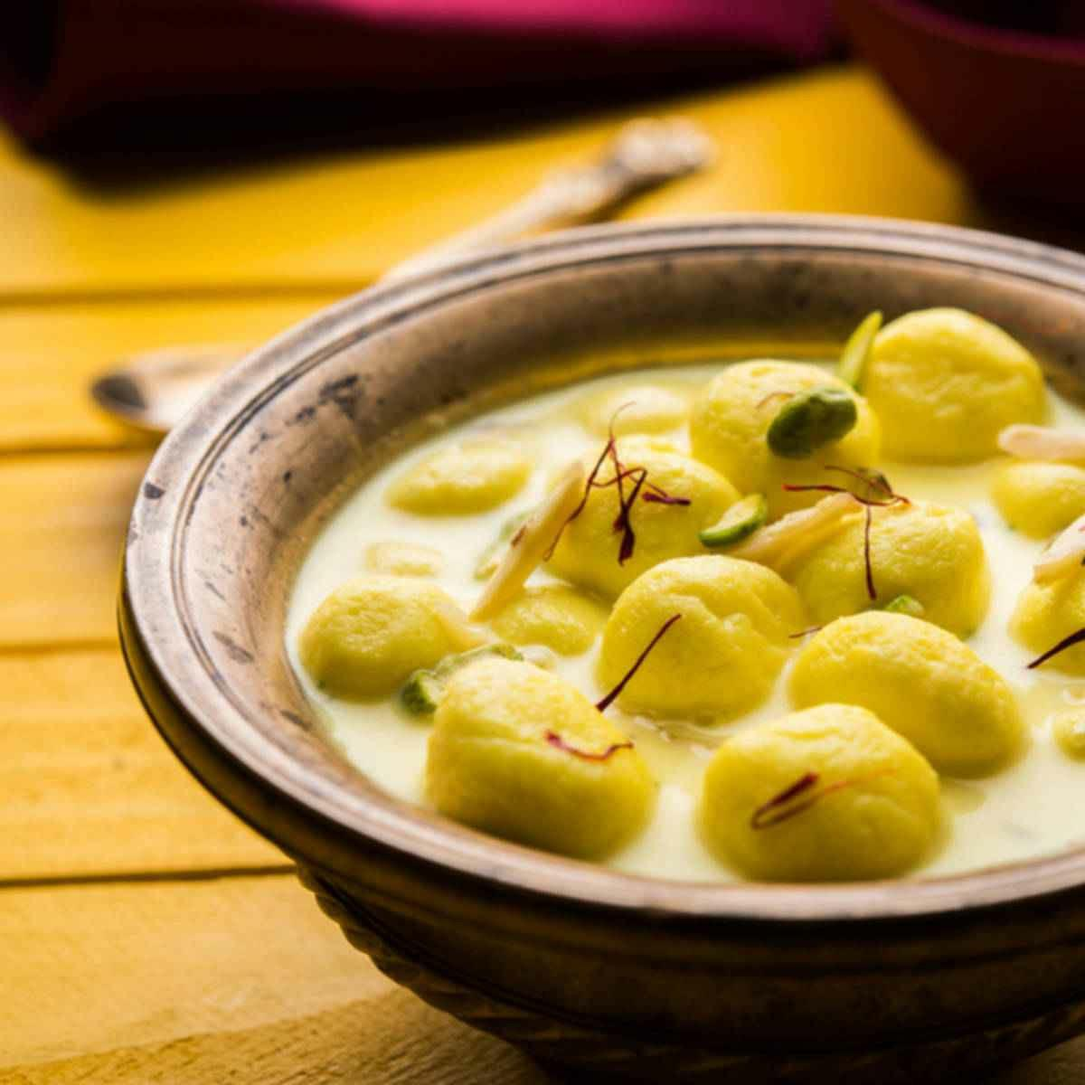RasMalai: (288, 308, 1085, 894)
